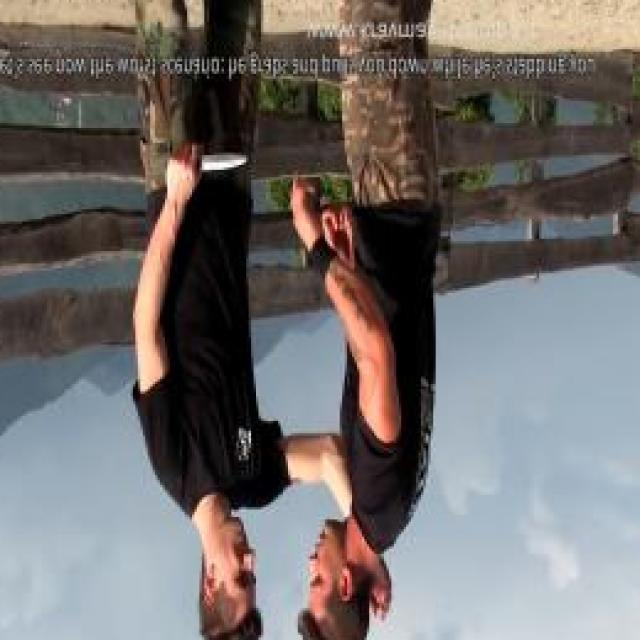knife: (160, 143, 251, 187)
